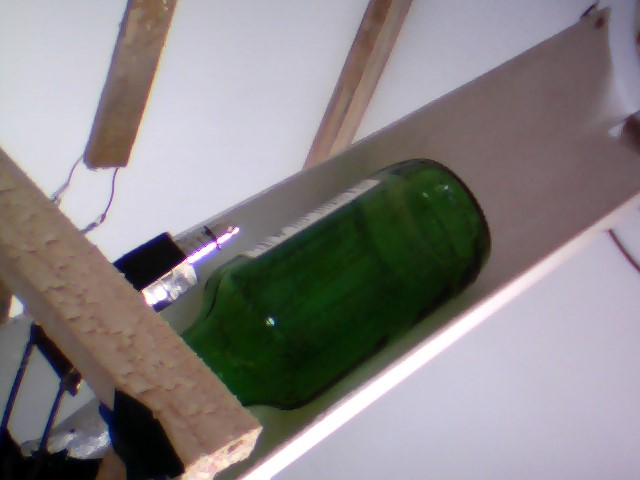vidrio: (164, 151, 499, 414)
